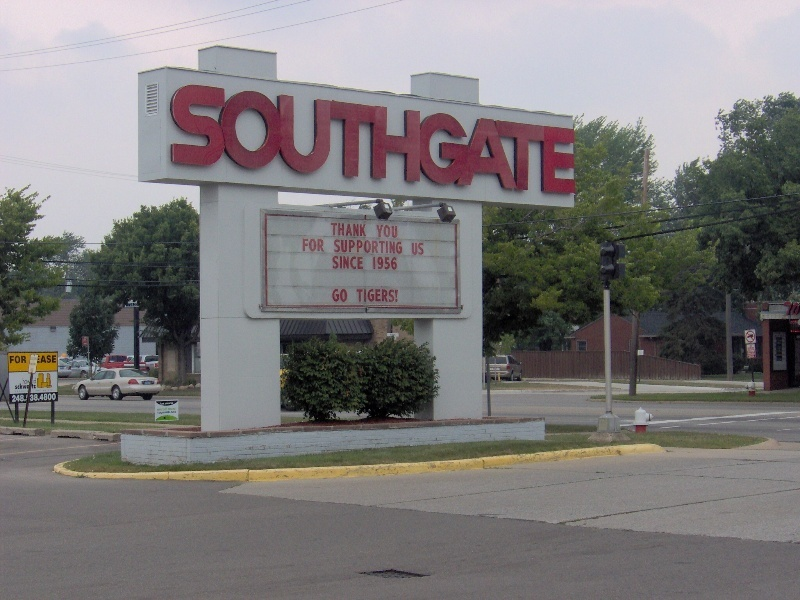text: (177, 81, 192, 194), (193, 81, 208, 194), (209, 81, 224, 194), (225, 81, 240, 194), (241, 81, 256, 194), (257, 81, 272, 194), (273, 81, 288, 194), (289, 81, 304, 194), (305, 81, 320, 194), (321, 81, 336, 194), (337, 81, 352, 194), (353, 81, 368, 194), (369, 81, 384, 194), (385, 81, 400, 194), (401, 81, 416, 194), (417, 81, 432, 194), (433, 81, 448, 194), (449, 81, 464, 194), (465, 81, 480, 194), (481, 81, 496, 194), (497, 81, 512, 194), (513, 81, 528, 194), (529, 81, 544, 194), (545, 81, 560, 194), (561, 81, 576, 194), (170, 81, 176, 194), (785, 301, 799, 318), (337, 239, 352, 254), (353, 239, 368, 254), (369, 239, 384, 254), (385, 239, 400, 254), (337, 223, 352, 237), (305, 239, 320, 252), (337, 256, 352, 269), (353, 223, 366, 237), (369, 290, 384, 302), (385, 257, 398, 270), (385, 225, 398, 238), (385, 290, 399, 302), (356, 290, 368, 302), (337, 289, 348, 302), (373, 257, 384, 270), (353, 256, 363, 269), (37, 354, 48, 364), (17, 383, 32, 390), (17, 356, 28, 365), (417, 243, 424, 256), (377, 225, 384, 238), (49, 354, 58, 364), (331, 223, 336, 237), (40, 393, 48, 401), (161, 411, 177, 415), (9, 356, 16, 365), (161, 408, 176, 412), (49, 393, 56, 401), (161, 402, 175, 406), (23, 378, 32, 384), (332, 289, 336, 302), (321, 239, 325, 252), (412, 243, 416, 256), (129, 303, 139, 308), (17, 395, 24, 402), (26, 394, 32, 402), (33, 394, 39, 402), (333, 256, 336, 269), (24, 399, 32, 403), (334, 239, 336, 254), (401, 239, 403, 254), (38, 399, 48, 402), (33, 383, 37, 390), (12, 395, 16, 402), (33, 378, 37, 384), (303, 239, 304, 252), (157, 408, 160, 412), (158, 411, 160, 415), (127, 303, 128, 308), (177, 408, 178, 412)
